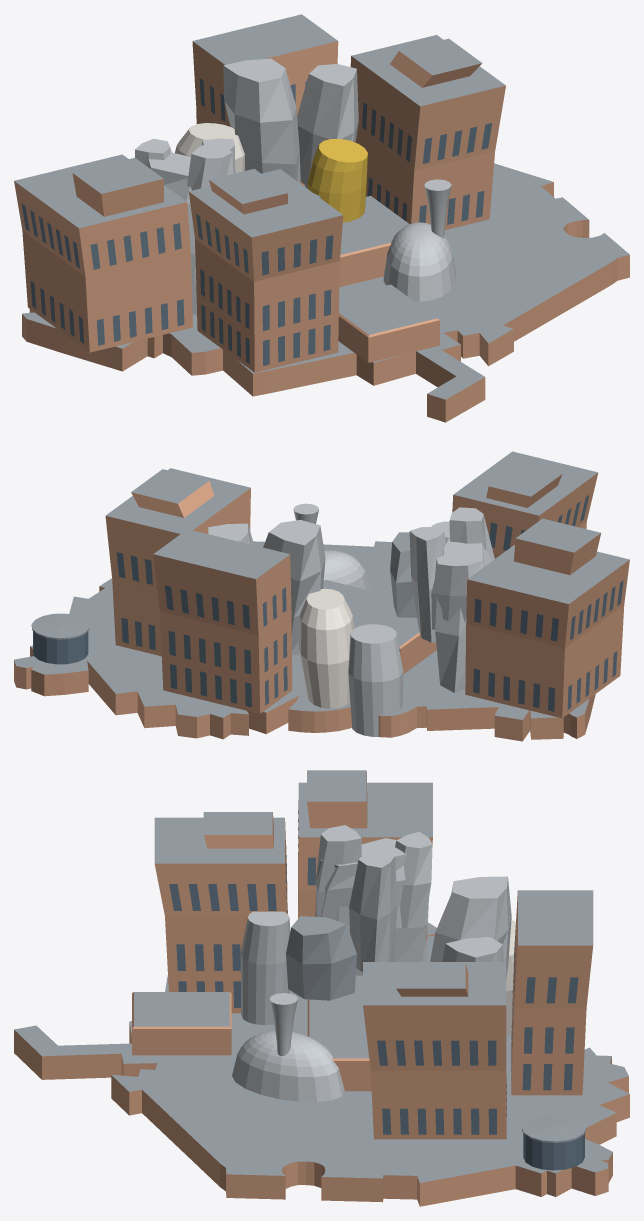
The model's file is bos-mit-stata-center.glb.
3 renders of one model, top to bottom at view 1: azimuth 30°, elevation 25°; view 2: azimuth 150°, elevation 25°; view 3: azimuth 270°, elevation 25°, orthographic. The views are drawn at different scales.
Visible parts, largest first — view 1: Ray and Maria Stata Center; view 2: Ray and Maria Stata Center; view 3: Ray and Maria Stata Center.
Boxes of the visible parts, x1,y1,x2,y2 form: Ray and Maria Stata Center: [14, 14, 629, 422]; Ray and Maria Stata Center: [14, 451, 629, 741]; Ray and Maria Stata Center: [14, 770, 629, 1206].
Size of the model in its own units: 135 by 43 by 130.
